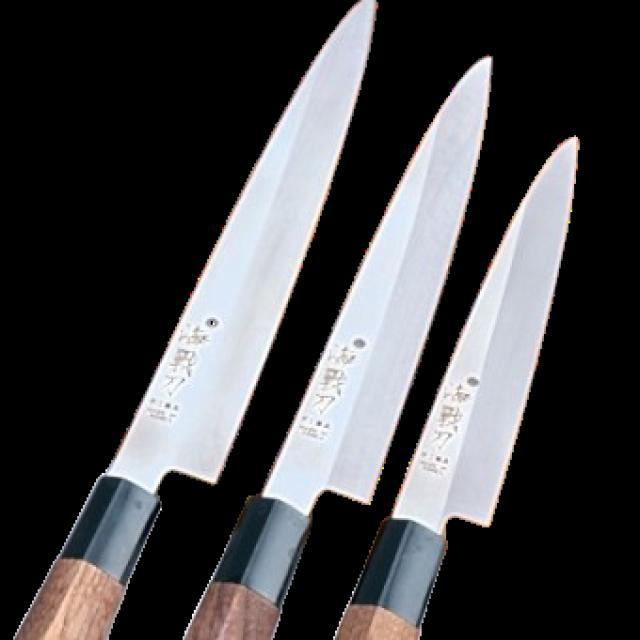knife: (16, 0, 383, 638), (184, 47, 499, 638), (336, 114, 582, 638)
